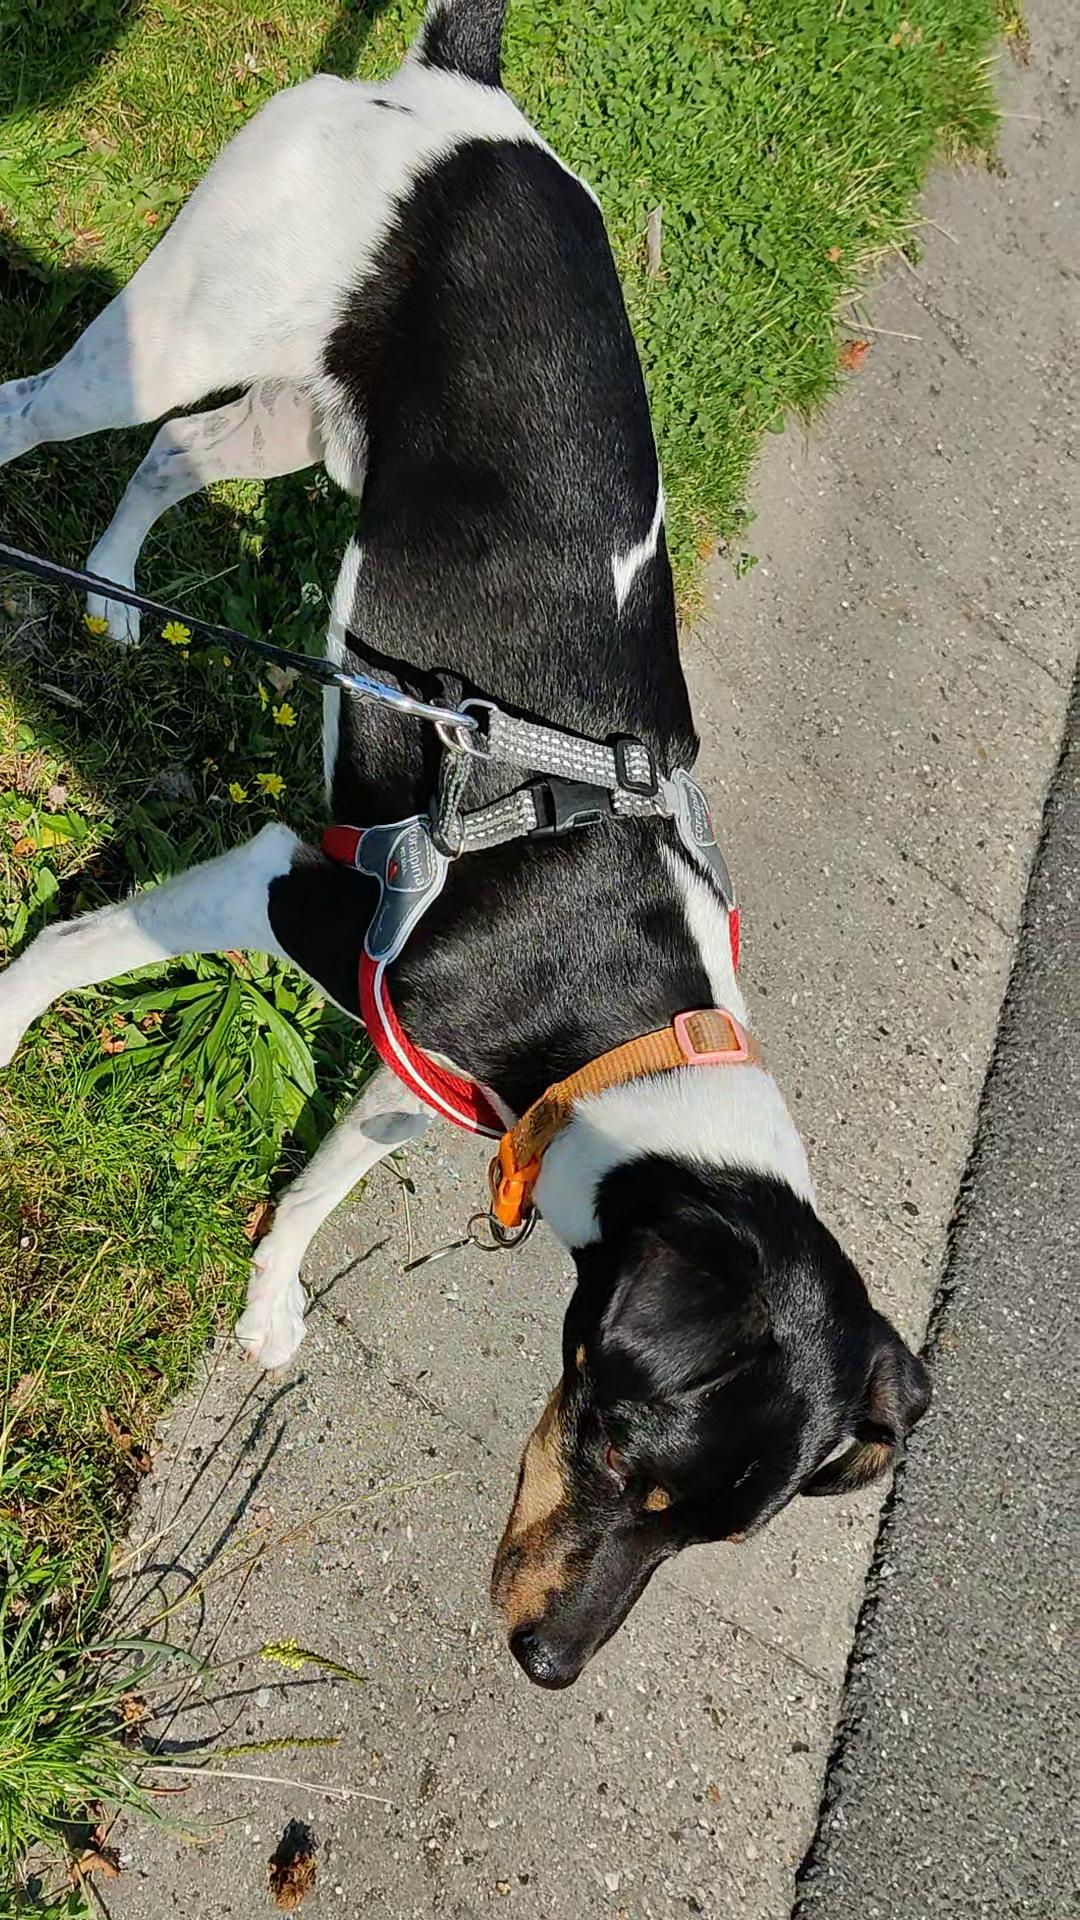Dog: (0, 0, 942, 1698)
